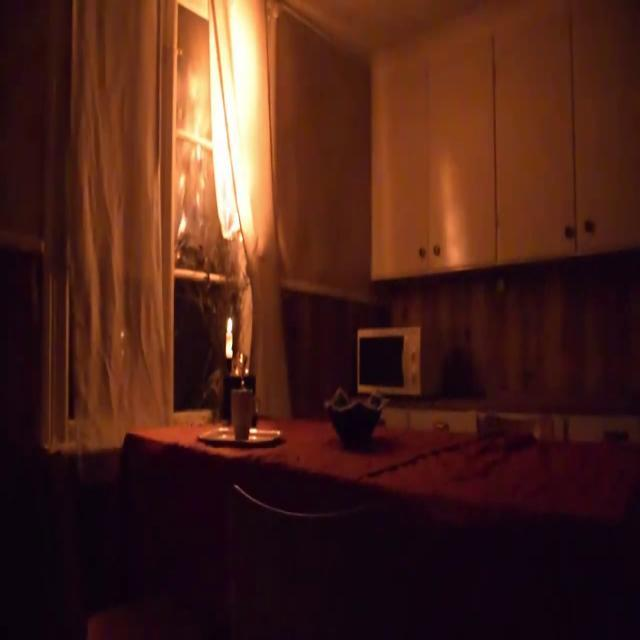Fire: (185, 0, 268, 243)
